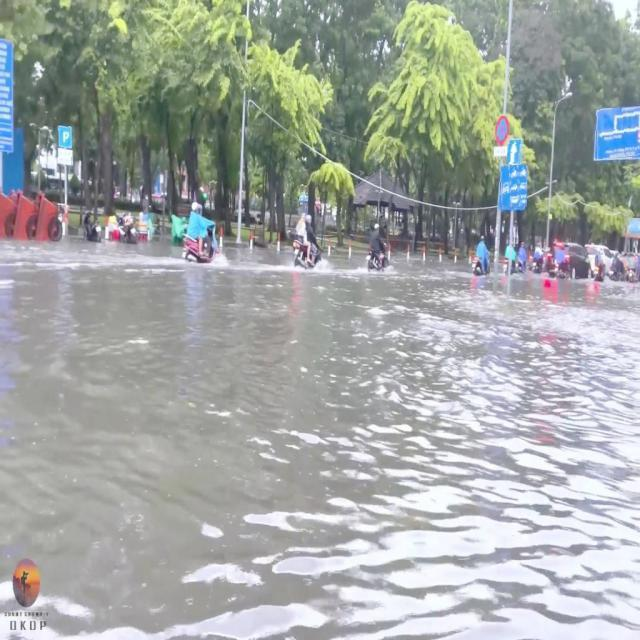130-cam-dung-va-do-xe: (495, 116, 509, 144)
407a-duong-mot-chieu: (506, 140, 522, 164)
